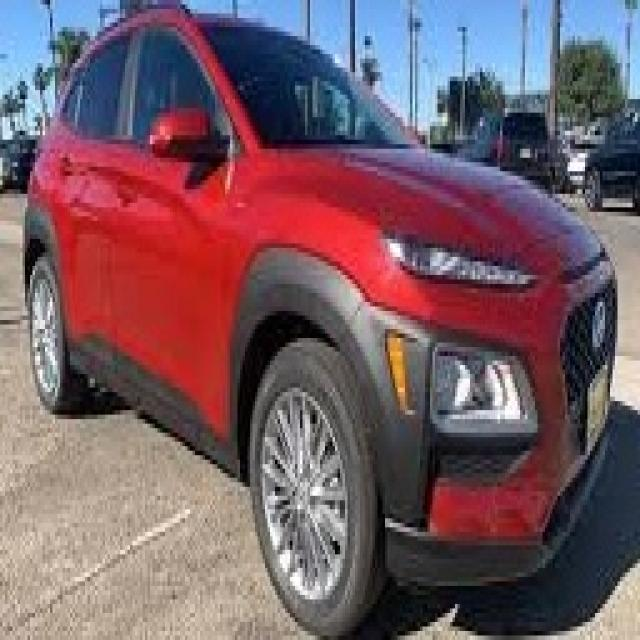red: (25, 9, 611, 551)
